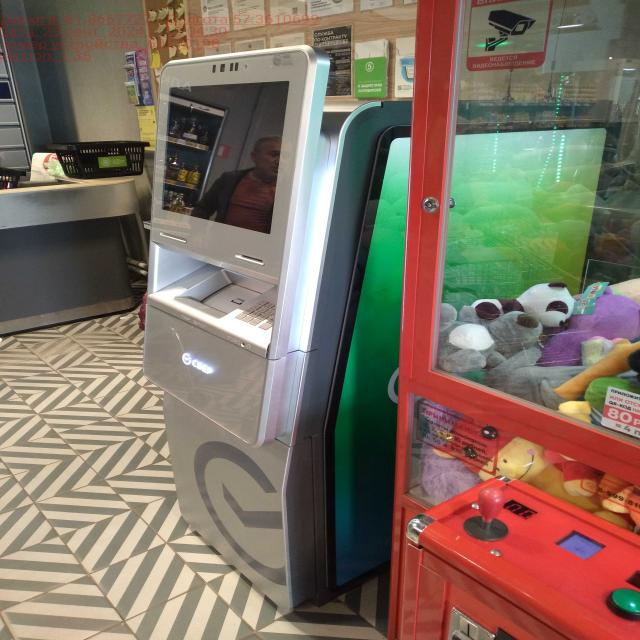bank: (146, 51, 617, 602)
